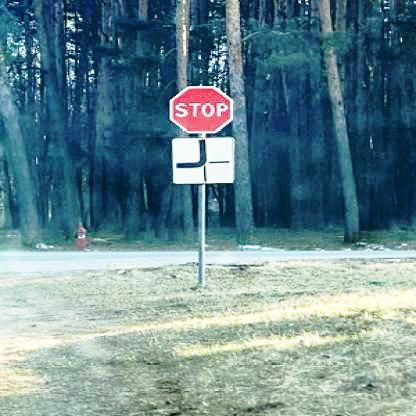Stop Sign: (168, 83, 236, 137)
